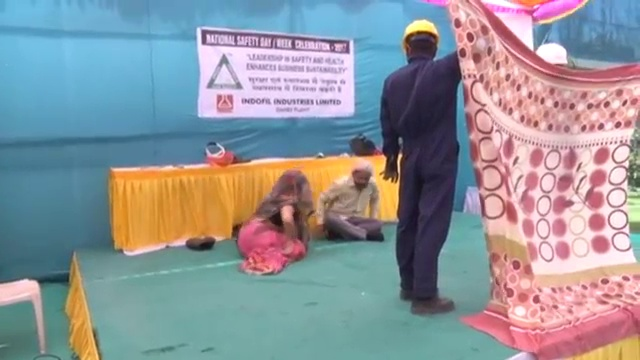helmet: (403, 18, 441, 46), (533, 41, 569, 69)
helmet_off: (352, 160, 372, 192), (281, 167, 305, 191)
helmet_on: (401, 17, 441, 63)
person: (378, 17, 468, 315), (240, 168, 308, 274), (316, 161, 385, 243)
